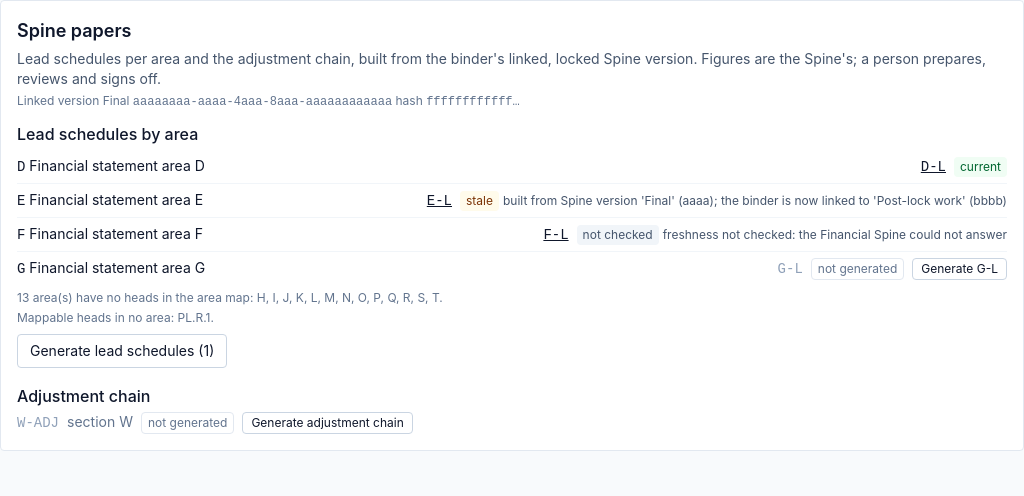
Scenario: a backend refusal is shown as said and the card recovers
The width and height of the screenshot is (1024, 496).
Click the button "Generate G-L" at (960, 269), box top-left (912, 258), bottom-right (1007, 280)
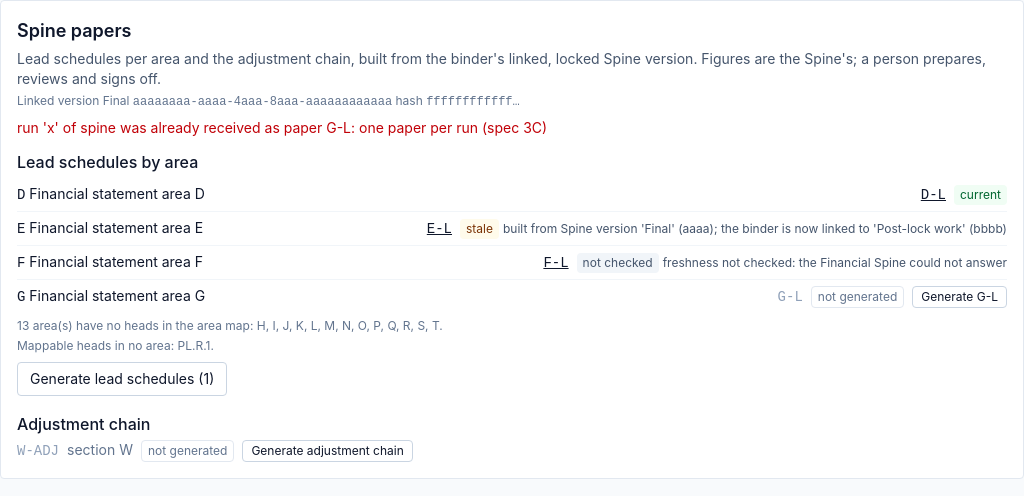
Expected: the button "Generate G-L" is enabled, top-left (912, 286), bottom-right (1007, 308)
Expected: the message shows "one paper per run", top-left (17, 119), bottom-right (547, 136)
